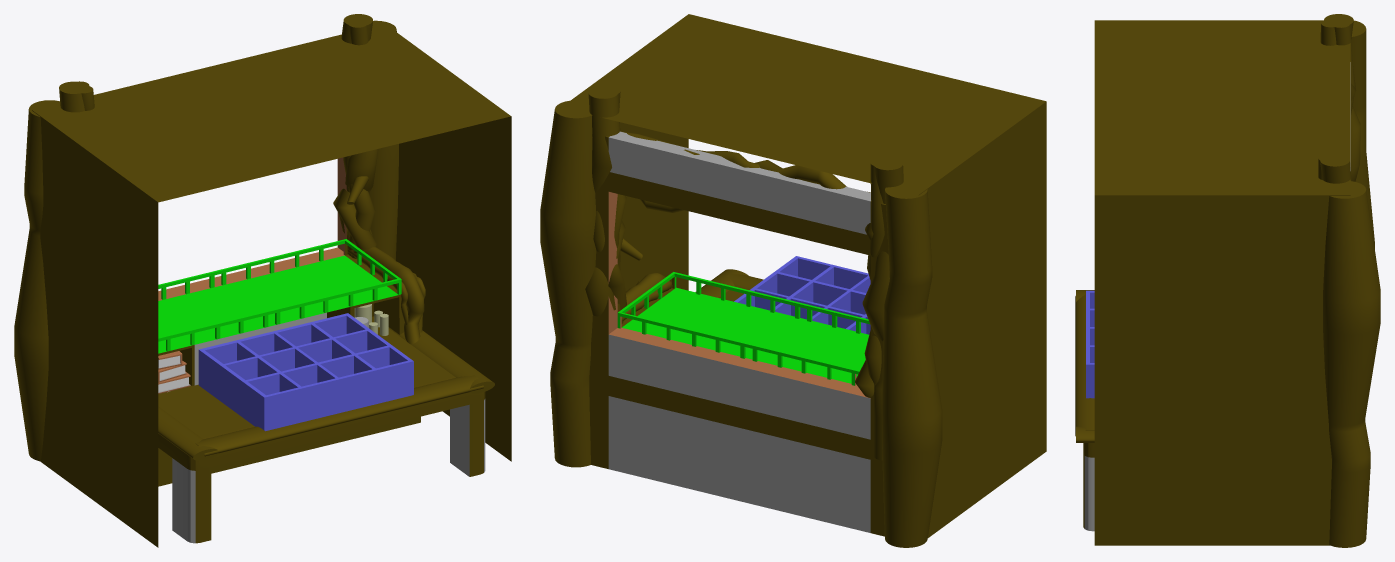
File: shopv2.fbx
The picture shows the model from 3 angles, left to right: view 1: azimuth 30°, elevation 25°; view 2: azimuth 150°, elevation 25°; view 3: azimuth 270°, elevation 25°; orthographic projection.
Visible parts, largest first — view 1: walls1, shop_working, draw4x2_2, pCylinder10, pCylinder22, pCylinder21, pCylinder12, pCylinder7 (×2), pCylinder18, pCylinder8, pCylinder9; view 2: walls1, shop_working, pCylinder10, pCylinder12, pCylinder7 (×2), draw4x2_2, pCylinder8, pCylinder9 (×2), pCylinder14; view 3: walls1, pCylinder12, pCylinder10, pCylinder22, pCylinder7 (×2), shop_working, draw4x2_2, pCylinder8, pCylinder9.
Part boxes in pixels (left/top/right/bottom): walls1: left=32, top=24, right=511, bottom=547; shop_working: left=158, top=157, right=485, bottom=543; draw4x2_2: left=198, top=313, right=413, bottom=431; pCylinder10: left=14, top=100, right=60, bottom=461; pCylinder22: left=195, top=375, right=483, bottom=456; pCylinder21: left=158, top=316, right=494, bottom=460; pCylinder12: left=369, top=20, right=398, bottom=260; pCylinder7 (×2): left=59, top=14, right=378, bottom=254; pCylinder18: left=365, top=247, right=424, bottom=344; pCylinder8: left=343, top=19, right=375, bottom=255; pCylinder9: left=333, top=17, right=376, bottom=258; walls1: left=561, top=14, right=1046, bottom=537; shop_working: left=589, top=131, right=888, bottom=536; pCylinder10: left=882, top=187, right=942, bottom=547; pCylinder12: left=540, top=100, right=596, bottom=467; pCylinder7 (×2): left=585, top=86, right=903, bottom=460; draw4x2_2: left=734, top=256, right=870, bottom=334; pCylinder8: left=864, top=158, right=889, bottom=383; pCylinder9 (×2): left=593, top=90, right=895, bottom=397; pCylinder14: left=621, top=131, right=846, bottom=189; walls1: left=1094, top=20, right=1350, bottom=545; pCylinder12: left=1323, top=181, right=1380, bottom=547; pCylinder10: left=1351, top=20, right=1374, bottom=248; pCylinder22: left=1075, top=292, right=1094, bottom=436; pCylinder7 (×2): left=1320, top=14, right=1360, bottom=183; shop_working: left=1083, top=61, right=1350, bottom=531; draw4x2_2: left=1086, top=290, right=1094, bottom=398; pCylinder8: left=1331, top=20, right=1355, bottom=114; pCylinder9: left=1320, top=19, right=1356, bottom=100.
Size of the model in its own units: 313 by 281 by 212.
